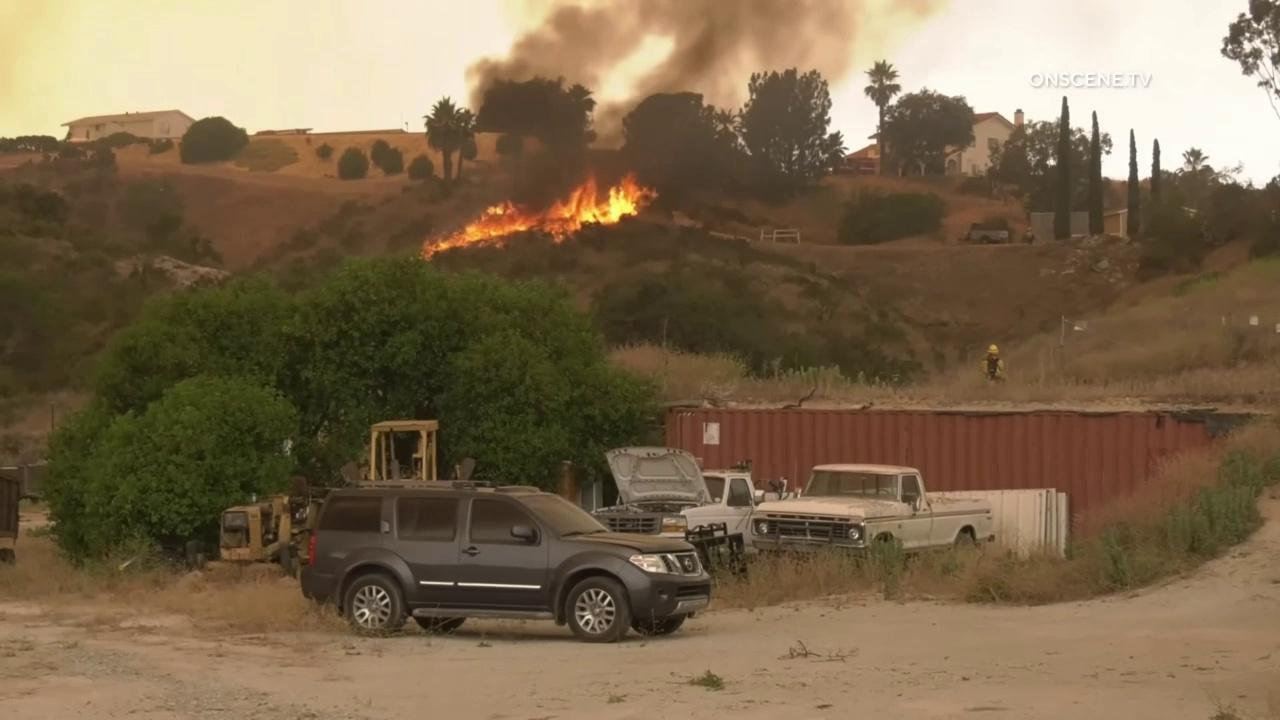fire: (418, 166, 662, 264)
smoke: (436, 0, 945, 234)
